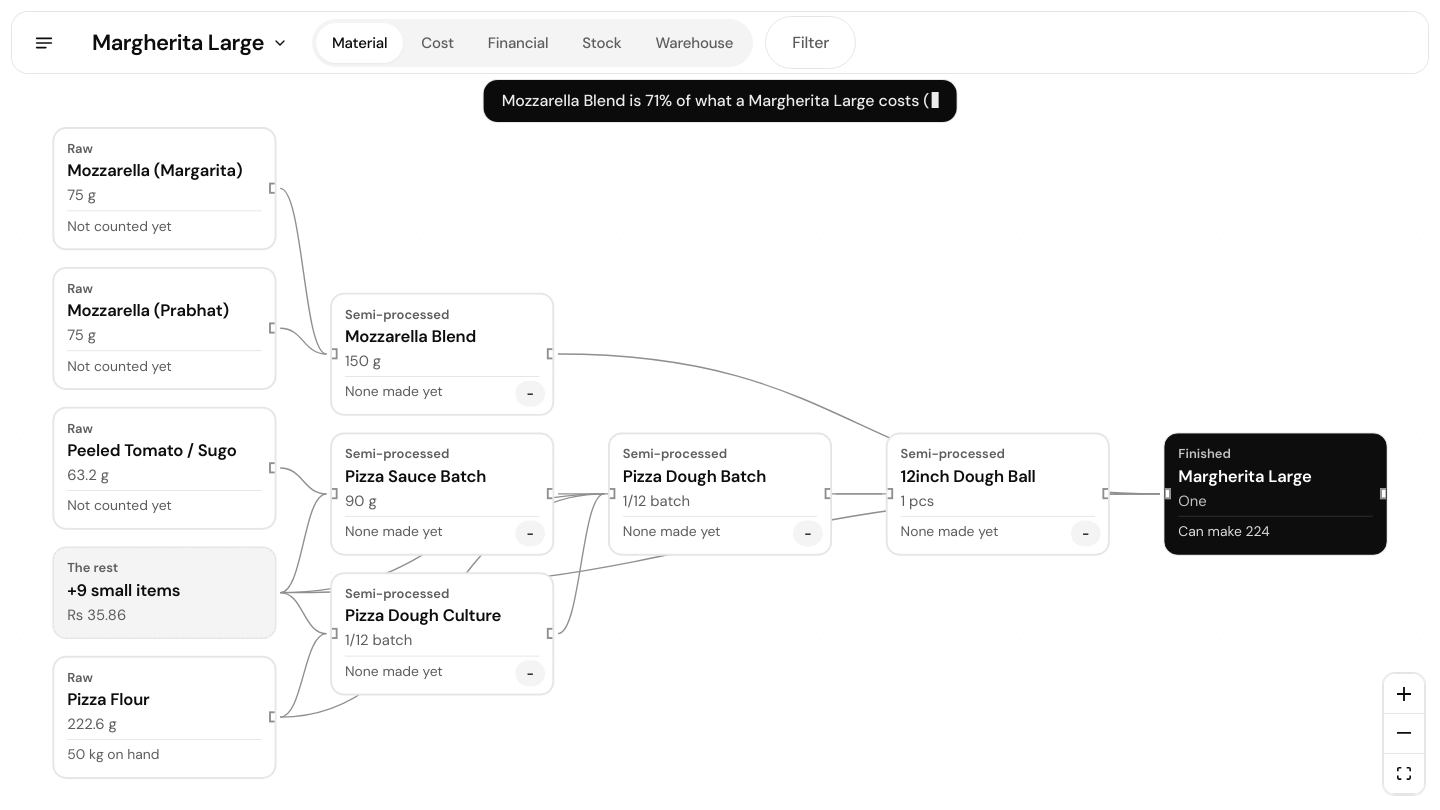
Stock (4): each card shows what it holds in money, the dish what stands behind it, and a raw item opens its history
Type keys "4"
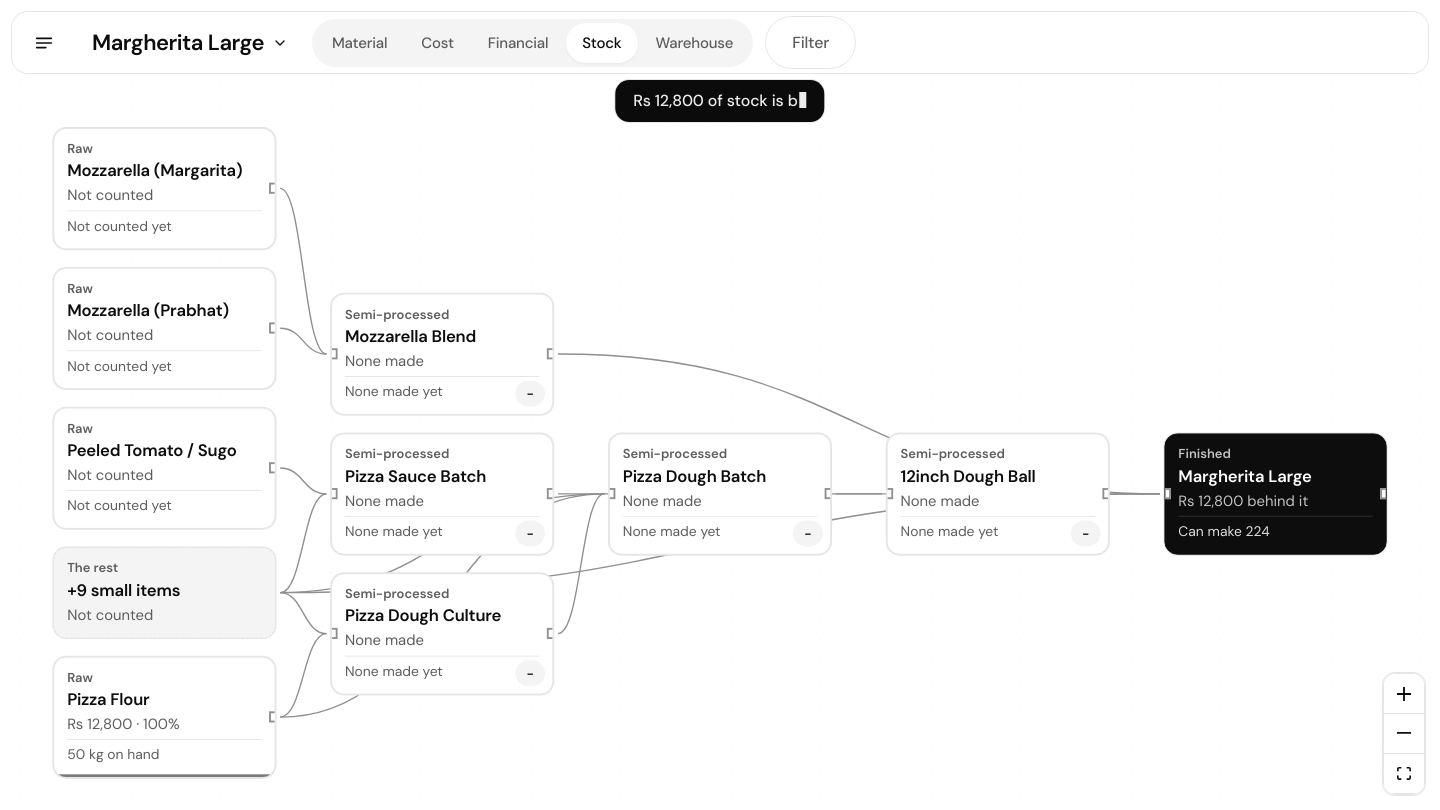
Now the text "Rs 12,800 · 100%" is shown, box [67,714,180,733]
Now the text "Rs 12,800 behind it" is shown, box [1178,490,1308,510]
Click the text "Pizza Flour" at (164,717), box [53,657,276,778]
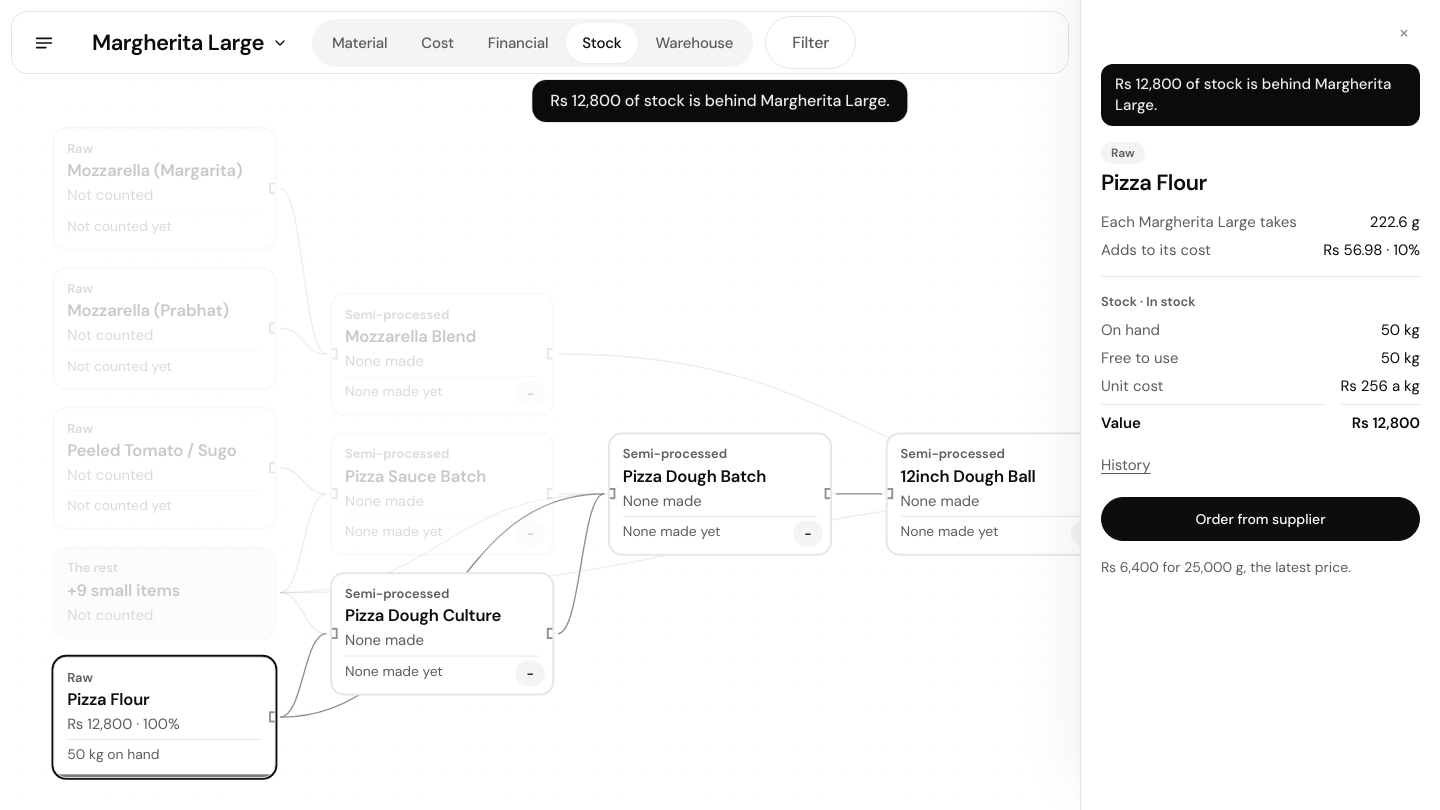
Now the text "Rs 256 a kg" is shown, box [1340,376,1420,396]
Now the text "Rs 12,800" is shown, box [1340,404,1420,433]
